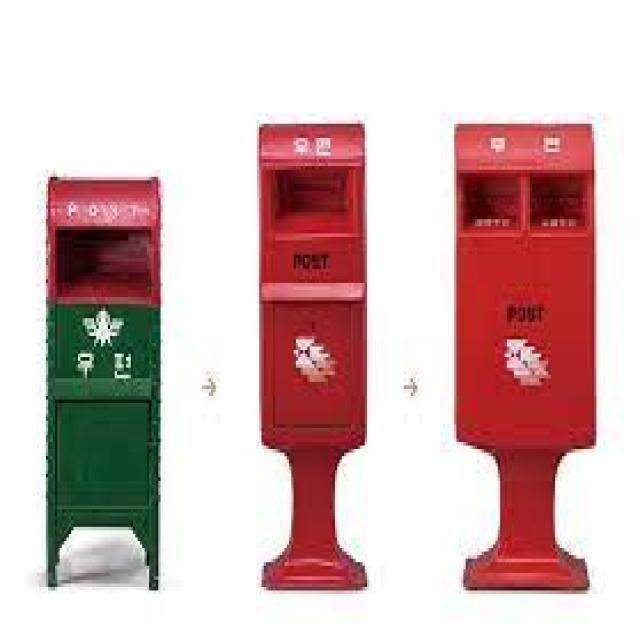Post Box: (451, 121, 599, 598), (255, 121, 370, 594), (43, 172, 162, 597)
